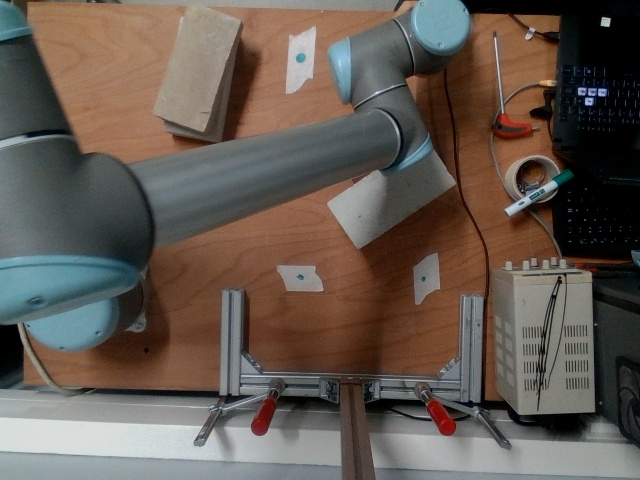brick: (152, 0, 243, 132)
